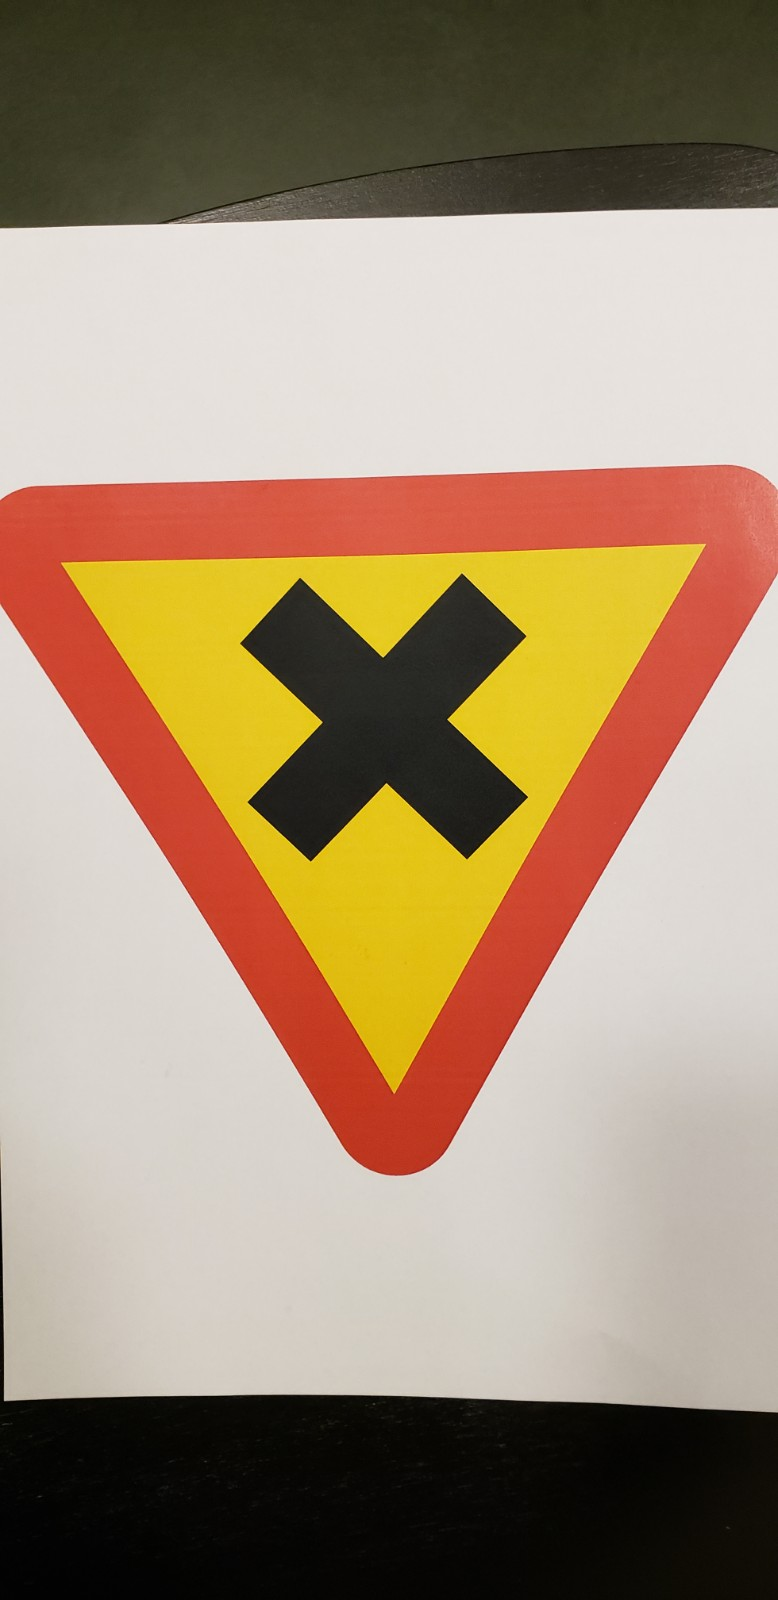junction: (9, 416, 778, 1235)
